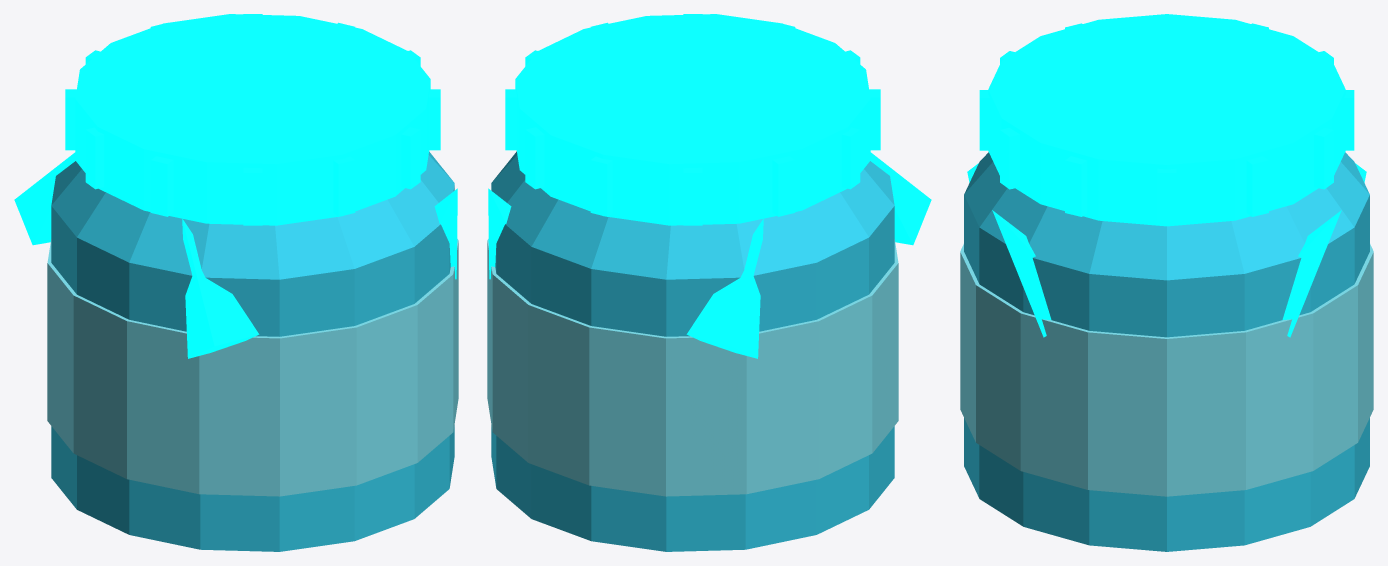
Rendered from ProteinTub_Diamond.fbx.
The picture shows the model from 3 angles, left to right: view 1: azimuth 30°, elevation 25°; view 2: azimuth 150°, elevation 25°; view 3: azimuth 270°, elevation 25°; orthographic projection.
Parts seen in each view (by area): view 1: WaistBand, TubCap, TubBody, TubNeck, CrystalShard_3, CrystalShard_2, CapRidge_8, CapRidge_10, CapRidge_9, CapRidge_11, CapRidge_7, CrystalShard_4 (+2 smaller); view 2: WaistBand, TubCap, TubBody, TubNeck, CrystalShard_2, CrystalShard_3, CapRidge_6, CapRidge_4, CapRidge_5, CapRidge_3, CapRidge_7, CrystalShard_1 (+2 smaller); view 3: WaistBand, TubCap, TubBody, TubNeck, CrystalShard_1, CrystalShard_4, CapRidge_12, CapRidge_2, CapRidge_11, CapRidge_3, CapRidge_1, CapRidge_10 (+1 smaller).
Boxes of the visible parts, left/top/right/bottom form: WaistBand: left=47, top=239, right=458, bottom=496; TubCap: left=75, top=14, right=430, bottom=225; TubBody: left=51, top=185, right=454, bottom=551; TubNeck: left=51, top=151, right=454, bottom=279; CrystalShard_3: left=182, top=219, right=259, bottom=358; CrystalShard_2: left=14, top=152, right=75, bottom=245; CapRidge_8: left=150, top=156, right=173, bottom=216; CapRidge_10: left=333, top=156, right=355, bottom=216; CapRidge_9: left=243, top=167, right=262, bottom=225; CapRidge_11: left=401, top=127, right=420, bottom=189; CapRidge_7: left=85, top=127, right=104, bottom=189; CrystalShard_4: left=434, top=188, right=457, bottom=279; WaistBand: left=487, top=239, right=898, bottom=496; TubCap: left=515, top=14, right=870, bottom=225; TubBody: left=491, top=185, right=894, bottom=551; TubNeck: left=491, top=151, right=894, bottom=279; CrystalShard_2: left=686, top=219, right=763, bottom=358; CrystalShard_3: left=870, top=152, right=931, bottom=245; CapRidge_6: left=772, top=156, right=795, bottom=216; CapRidge_4: left=590, top=156, right=612, bottom=216; CapRidge_5: left=683, top=167, right=702, bottom=225; CapRidge_3: left=525, top=127, right=544, bottom=189; CapRidge_7: left=841, top=127, right=860, bottom=189; CrystalShard_1: left=488, top=188, right=511, bottom=279; WaistBand: left=960, top=244, right=1373, bottom=496; TubCap: left=988, top=14, right=1345, bottom=226; TubBody: left=964, top=195, right=1369, bottom=551; TubNeck: left=964, top=152, right=1369, bottom=280; CrystalShard_1: left=1282, top=210, right=1341, bottom=337; CrystalShard_4: left=992, top=210, right=1051, bottom=337; CapRidge_12: left=1065, top=156, right=1087, bottom=216; CapRidge_2: left=1246, top=156, right=1268, bottom=216; CapRidge_11: left=1000, top=127, right=1019, bottom=189; CapRidge_3: left=1314, top=127, right=1333, bottom=189; CapRidge_1: left=1157, top=168, right=1176, bottom=225; CapRidge_10: left=979, top=90, right=989, bottom=150.
Bounding box in the file's own units: 0.856 × 0.856 × 0.86.
